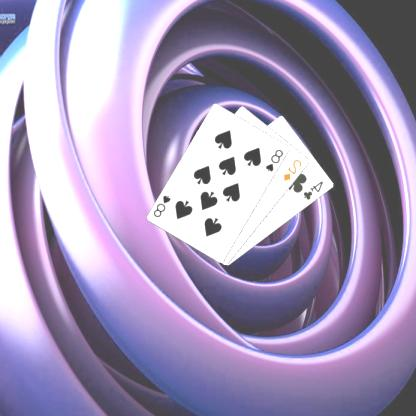2D: (283, 156, 305, 182)
4C: (302, 178, 327, 202)
8S: (152, 192, 174, 219), (265, 146, 286, 173)
